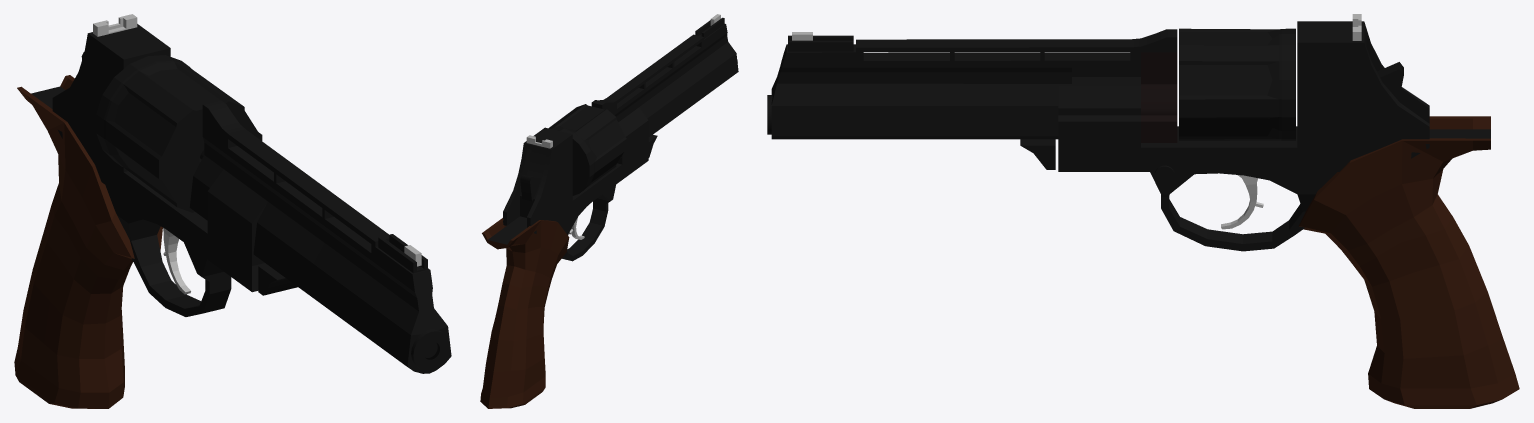
File: mateba-obj.obj
The picture shows the model from 3 angles, left to right: view 1: azimuth 30°, elevation 25°; view 2: azimuth 150°, elevation 25°; view 3: azimuth 270°, elevation 25°; orthographic projection. The views are drawn at different scales.
Visible parts, largest first — view 1: pCube3 group1, pCube1, polySurface4 pCube15 polySurface9 polySurface5, polySurface1, polySurface6 polySurface4 pCube15, pCylinder3, pCube9, polySurface4 pCube15 polySurface5 polySurface7, pCube8, pCube11; view 2: pCube1, polySurface4 pCube15 polySurface9 polySurface5, pCube3 group1, polySurface1, polySurface6 polySurface4 pCube15, pCube5, pCube9; view 3: pCube1, pCube3 group1, polySurface4 pCube15 polySurface9 polySurface5, polySurface1, polySurface6 polySurface4 pCube15, pCube15 polySurface3, pCube9, polySurface4 pCube15 polySurface5 polySurface7.
Boxes of the visible parts, bbox=[...] form: pCube3 group1: bbox=[189, 100, 451, 373]; pCube1: bbox=[14, 75, 162, 408]; polySurface4 pCube15 polySurface9 polySurface5: bbox=[31, 24, 267, 292]; polySurface1: bbox=[96, 55, 262, 212]; polySurface6 polySurface4 pCube15: bbox=[105, 185, 231, 316]; pCylinder3: bbox=[411, 329, 450, 370]; pCube9: bbox=[378, 234, 427, 273]; polySurface4 pCube15 polySurface5 polySurface7: bbox=[258, 264, 297, 295]; pCube8: bbox=[163, 227, 190, 294]; pCube11: bbox=[93, 14, 137, 36]; pCube1: bbox=[480, 218, 569, 408]; polySurface4 pCube15 polySurface9 polySurface5: bbox=[488, 107, 648, 244]; pCube3 group1: bbox=[591, 24, 738, 157]; polySurface1: bbox=[548, 104, 626, 195]; polySurface6 polySurface4 pCube15: bbox=[560, 185, 615, 261]; pCube5: bbox=[520, 174, 540, 201]; pCube9: bbox=[695, 17, 724, 38]; pCube1: bbox=[1299, 116, 1519, 408]; pCube3 group1: bbox=[771, 29, 1177, 139]; polySurface4 pCube15 polySurface9 polySurface5: bbox=[1058, 21, 1490, 171]; polySurface1: bbox=[1179, 28, 1295, 140]; polySurface6 polySurface4 pCube15: bbox=[1150, 172, 1336, 251]; pCube15 polySurface3: bbox=[1141, 52, 1177, 142]; pCube9: bbox=[788, 35, 853, 51]; polySurface4 pCube15 polySurface5 polySurface7: bbox=[1020, 139, 1055, 169].
Bounding box in the file's own units: 0.0623 × 0.2288 × 0.4219.
